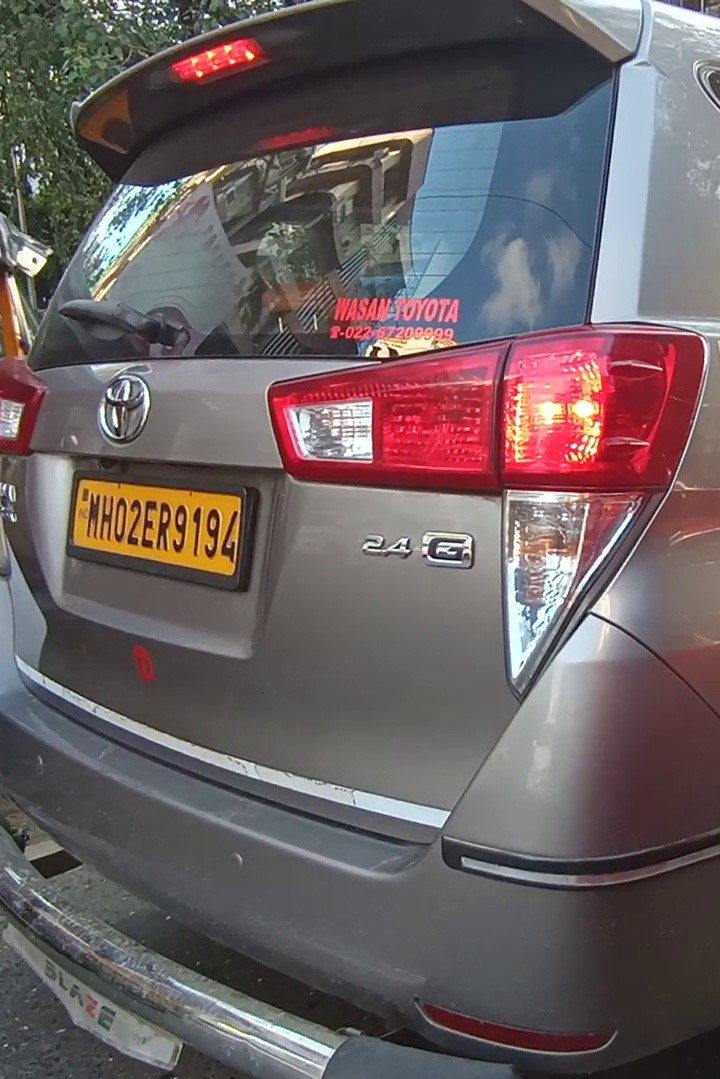MH02ER9194: (68, 477, 243, 574)
